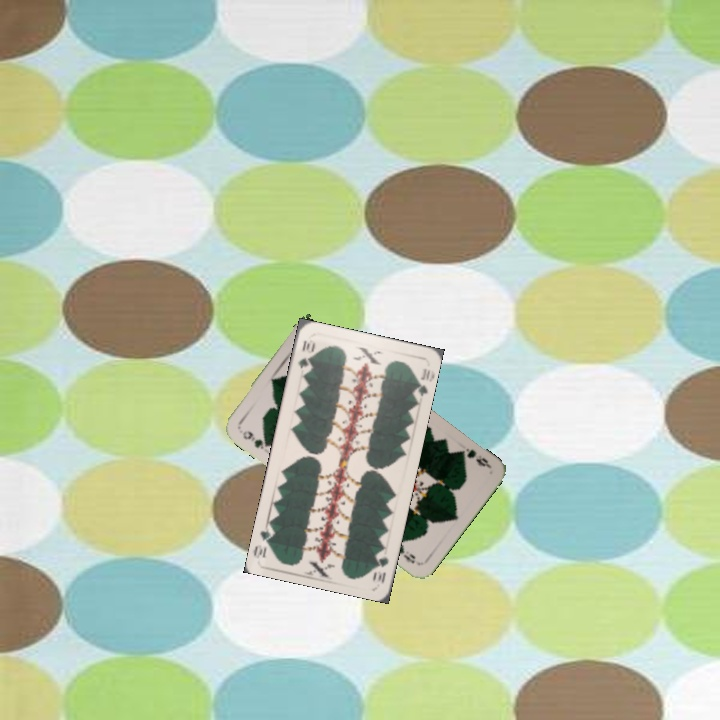G10: (294, 336, 317, 371), (369, 552, 391, 586)
G9: (454, 444, 493, 470), (238, 426, 272, 452)
